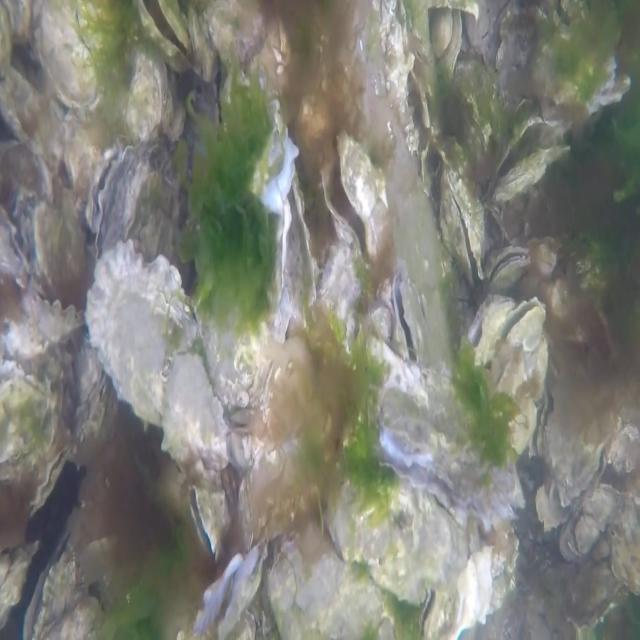Oyster-Closed: (41, 0, 127, 114), (494, 145, 568, 205), (29, 442, 71, 518), (33, 288, 86, 340)
Oyster-Indeterminate: (87, 239, 226, 452), (324, 475, 460, 607), (0, 363, 66, 482), (0, 67, 72, 161), (33, 196, 88, 289), (123, 55, 166, 142)
Oyster-Open: (374, 379, 514, 533), (207, 1, 297, 218), (318, 135, 388, 271), (23, 526, 104, 638), (481, 296, 547, 398), (437, 166, 487, 287), (276, 178, 316, 317), (460, 293, 518, 370), (88, 141, 134, 235), (128, 0, 194, 59), (387, 263, 422, 368), (187, 486, 225, 556), (0, 206, 31, 281), (486, 245, 530, 291)
